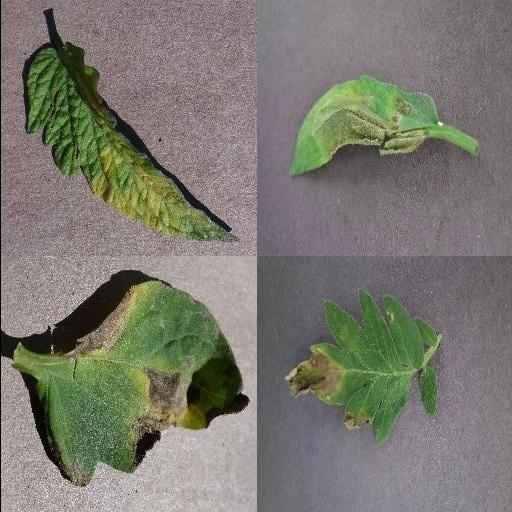Early Blight: (36, 278, 248, 487)
Late Blight: (282, 292, 438, 446), (284, 73, 442, 179)
Leaf Mold: (23, 42, 241, 244)
